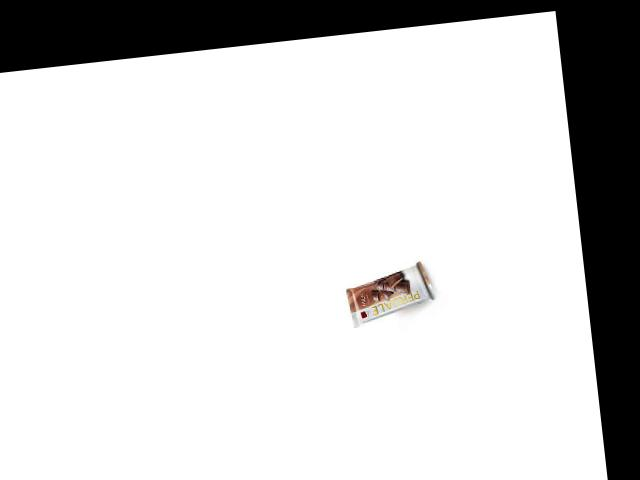chocolate: (342, 254, 431, 330)
